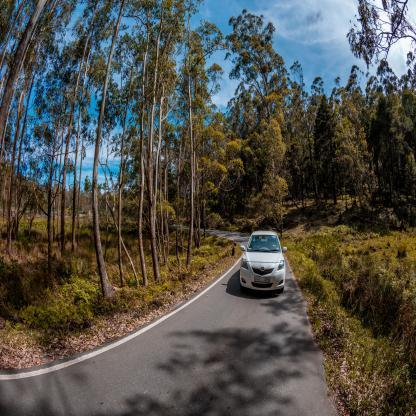vehicle: (238, 231, 289, 298)
